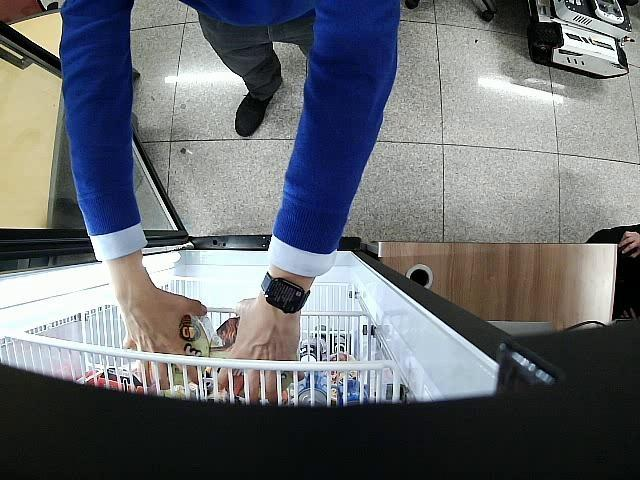03_chapagetti_L: (208, 316, 294, 398), (146, 301, 214, 386)
